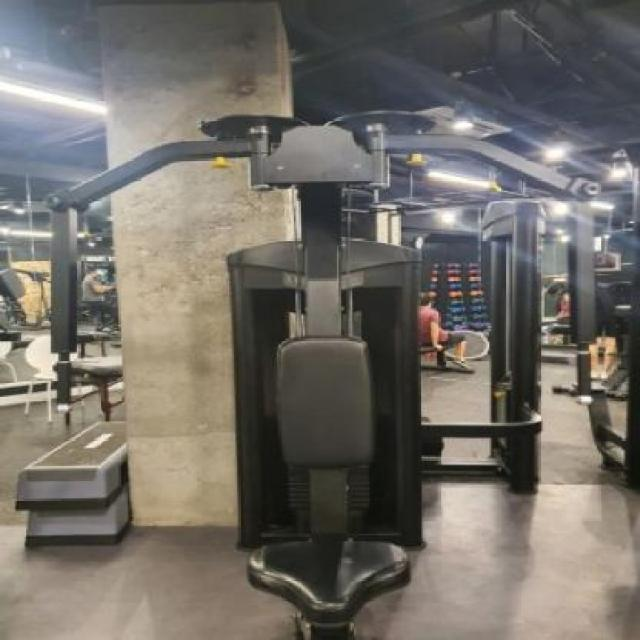chest fly machine: (15, 84, 618, 640)
